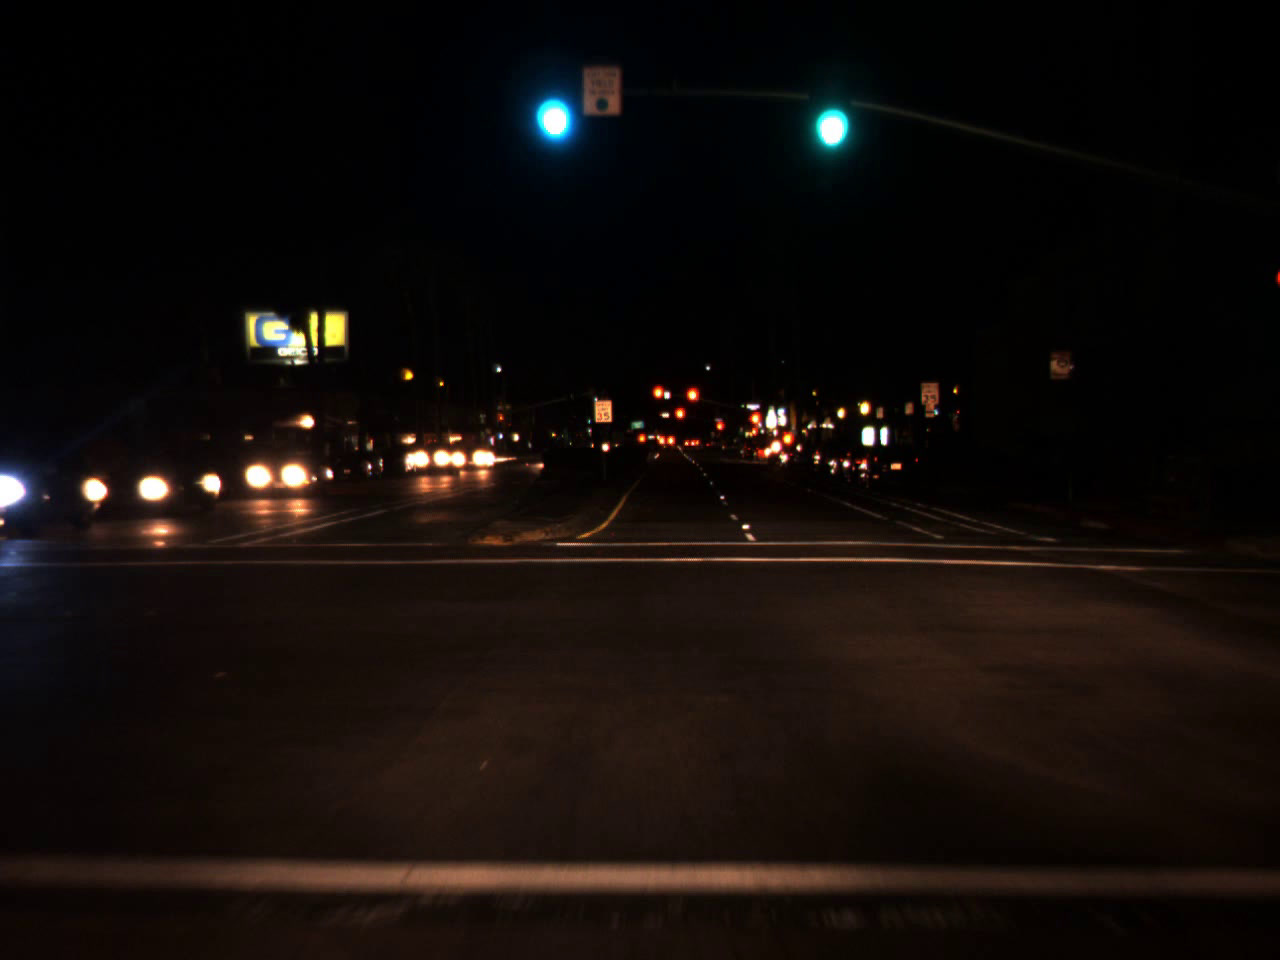go: (528, 62, 577, 149), (805, 71, 850, 158)
stop: (747, 408, 762, 445), (684, 385, 700, 417), (651, 384, 666, 413), (673, 405, 686, 432), (715, 419, 725, 441), (498, 412, 504, 428)
